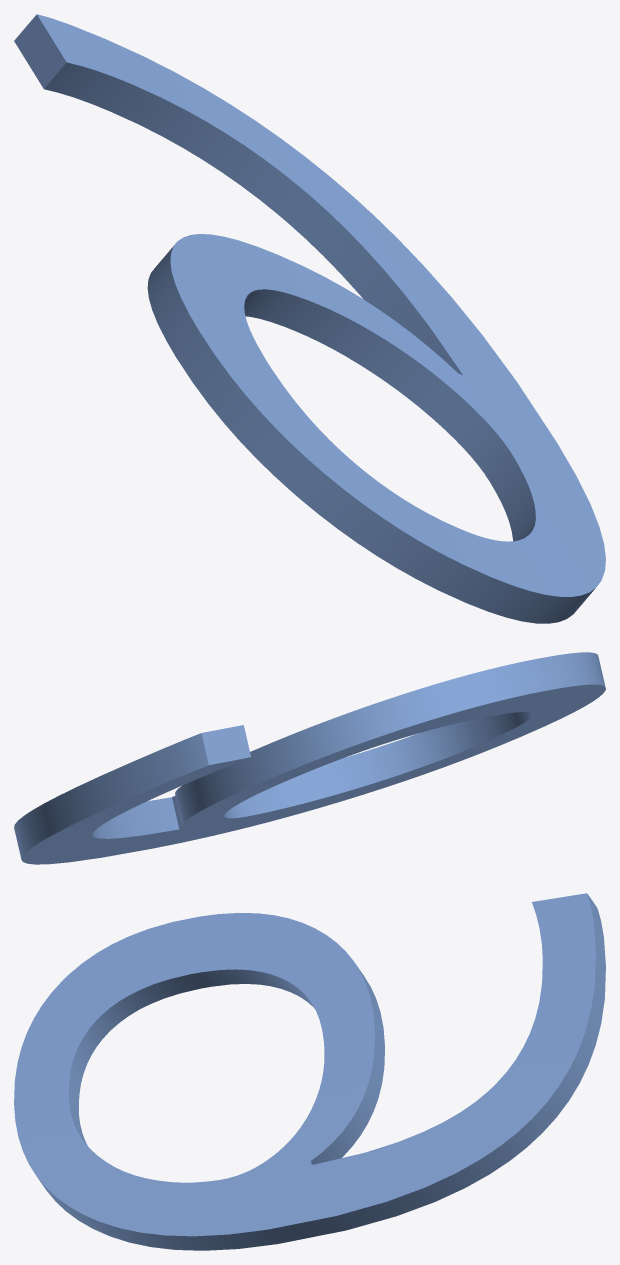
File: New_Number_6.gltf
The picture shows the model from 3 angles, top to bottom: view 1: azimuth 30°, elevation 25°; view 2: azimuth 150°, elevation 25°; view 3: azimuth 270°, elevation 25°; orthographic projection. The views are drawn at different scales.
Parts seen in each view (by area): view 1: Part 618; view 2: Part 618; view 3: Part 618.
Boxes of the visible parts, x1,y1,x2,y2 form: Part 618: (14,14,605,623); Part 618: (14,652,605,864); Part 618: (14,893,605,1250).
Size of the model in its own units: 0.00332 by 0.00283 by 0.00555.
